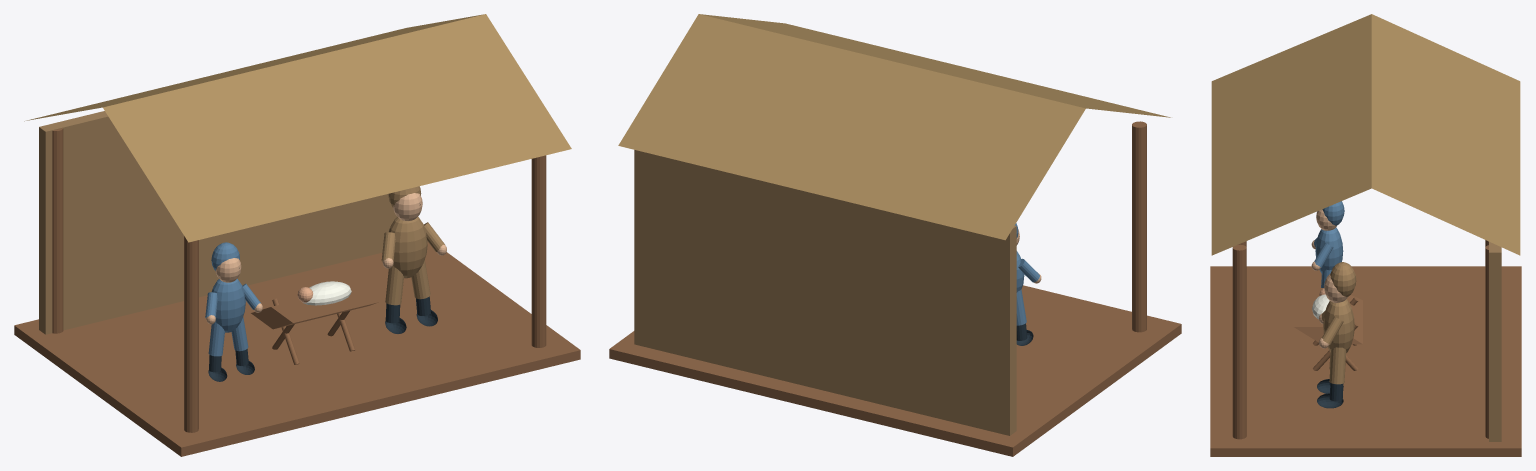
Rendered from scendance-plan-nativity-scene.glb.
3 renders of one model, left to right at view 1: azimuth 30°, elevation 25°; view 2: azimuth 150°, elevation 25°; view 3: azimuth 270°, elevation 25°, orthographic. The views are drawn at different scales.
Size of the model in its own units: 4.46 by 3.03 by 3.23.
